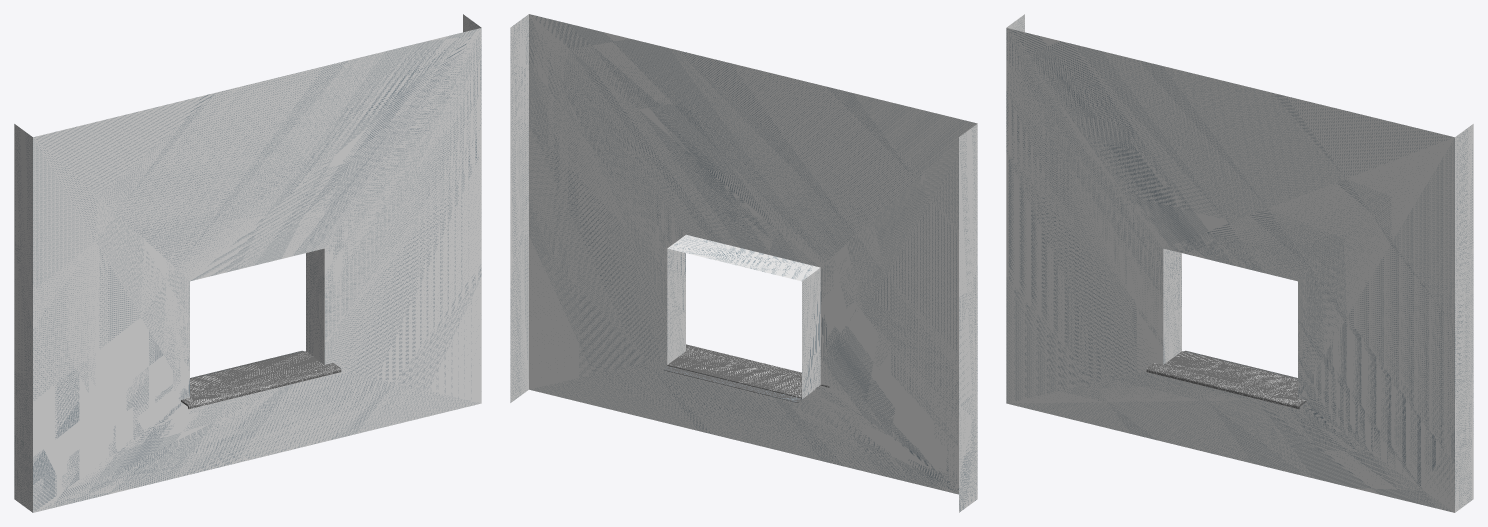
File: WindowBlock_os_[500x400]_150x124x[080].dae
The picture shows the model from 3 angles, left to right: view 1: azimuth 30°, elevation 25°; view 2: azimuth 150°, elevation 25°; view 3: azimuth 330°, elevation 25°; orthographic projection.
Parts seen in each view (by area): view 1: group_2 (×2), group_1; view 2: group_2 (×2), group_1 (×2); view 3: group_2 (×2), group_1.
Part boxes in pixels (<box>): group_2 (×2): <box>14,14,481,512</box>; group_1: <box>181,351,341,408</box>; group_2 (×2): <box>510,14,977,512</box>; group_1 (×2): <box>664,344,829,402</box>; group_2 (×2): <box>1006,14,1473,512</box>; group_1: <box>1146,351,1306,408</box>.
Size of the model in its own units: 197 by 23.03 by 157.
